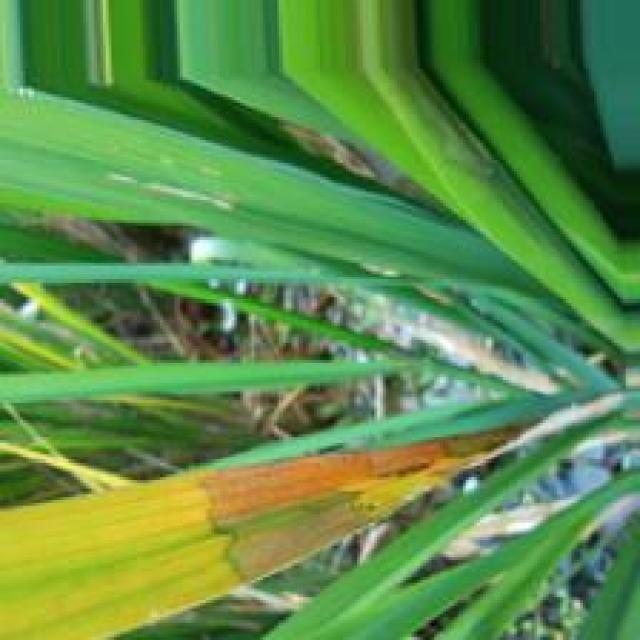Rice False Smut: (191, 438, 459, 584)
